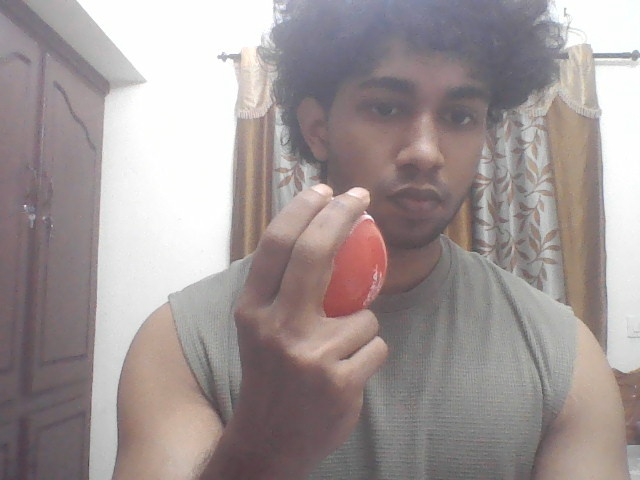cricket_ball: (289, 189, 397, 316)
